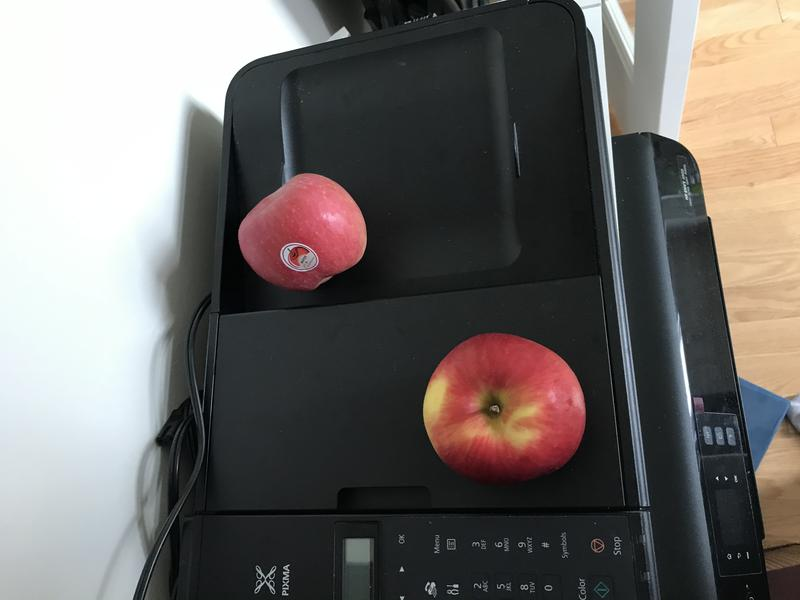red_apple: (408, 331, 598, 491), (229, 163, 382, 304)
